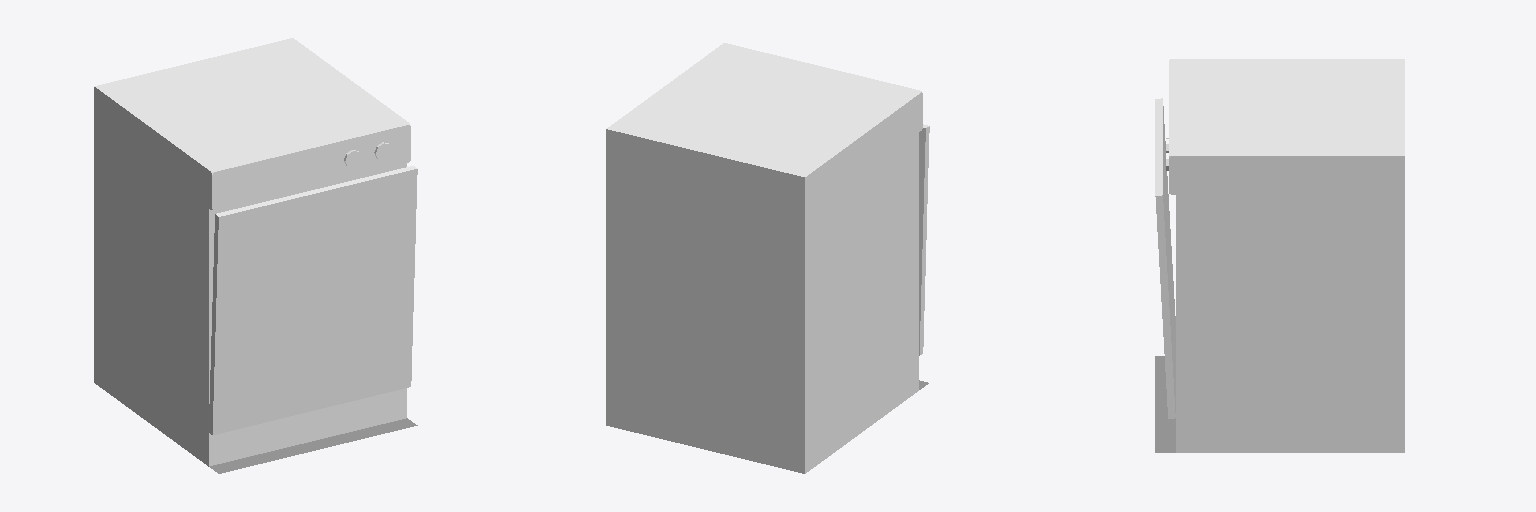
File: dishwasher.obj
3 views of the same model, side by side, from view 1: azimuth 30°, elevation 25°; view 2: azimuth 150°, elevation 25°; view 3: azimuth 270°, elevation 25° (orthographic).
Parts seen in each view (by area): view 1: Corps_4, Porte_3, PanneauCommande_2, ground_1; view 2: Corps_4, Porte_3, PanneauCommande_2; view 3: Corps_4, Porte_3, ground_1, PanneauCommande_2.
Boxes of the visible parts, x1=… form: Corps_4: x1=94, y1=38, x2=406, y2=466; Porte_3: x1=209, y1=166, x2=417, y2=434; PanneauCommande_2: x1=208, y1=122, x2=410, y2=210; ground_1: x1=209, y1=418, x2=417, y2=473; Corps_4: x1=606, y1=45, x2=918, y2=473; Porte_3: x1=919, y1=124, x2=929, y2=355; PanneauCommande_2: x1=721, y1=43, x2=922, y2=131; Corps_4: x1=1176, y1=59, x2=1404, y2=452; Porte_3: x1=1155, y1=98, x2=1175, y2=418; ground_1: x1=1155, y1=356, x2=1175, y2=452; PanneauCommande_2: x1=1169, y1=59, x2=1175, y2=194.
Size of the model in its own units: 59.69 by 85.09 by 64.77.